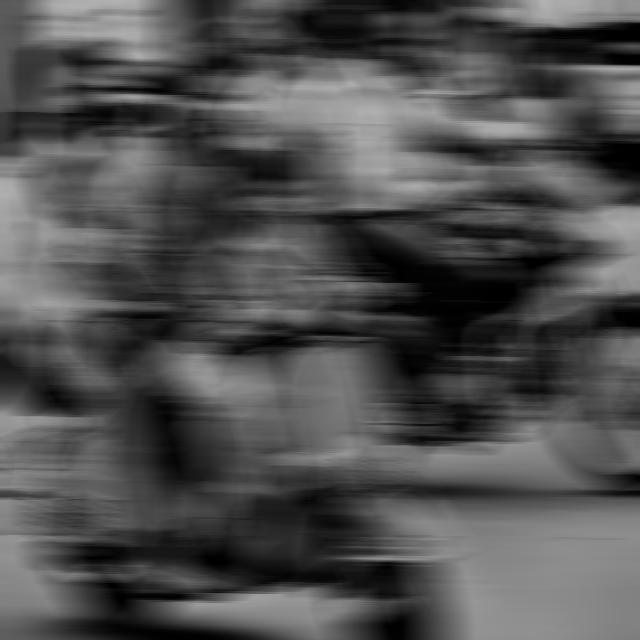Without Helmet: (347, 0, 446, 81), (163, 60, 254, 148)
